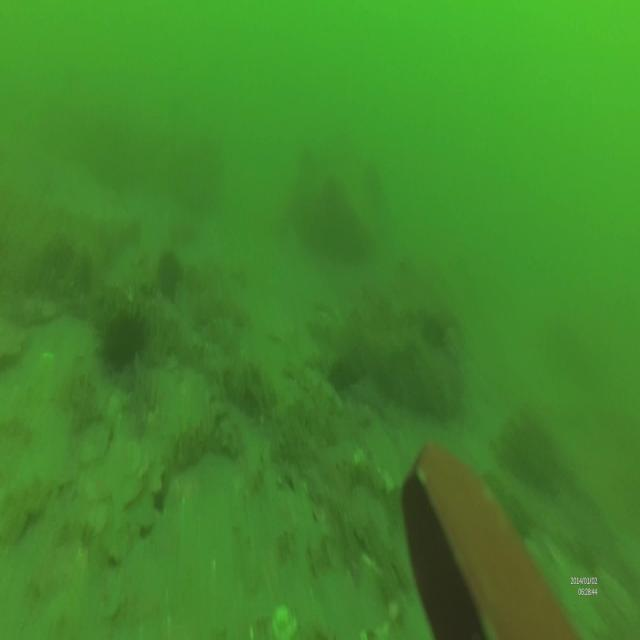echinus: (94, 303, 154, 381)
